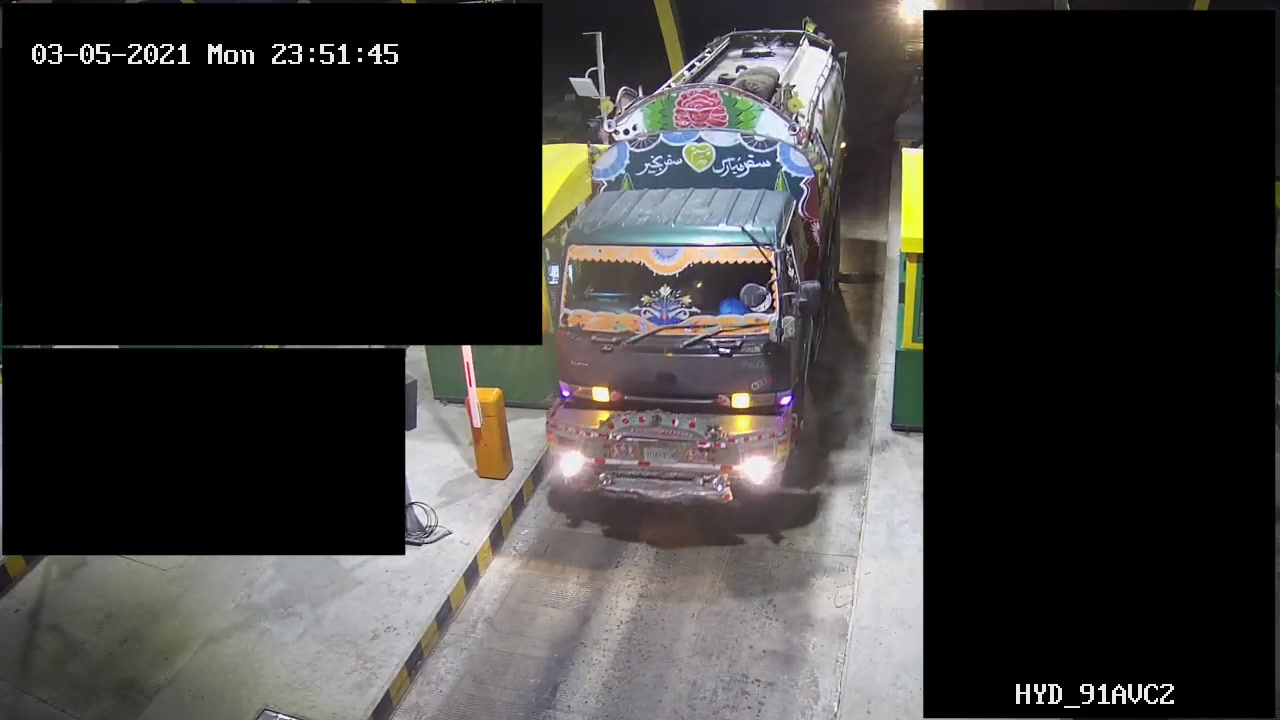F6: (538, 23, 857, 537)
